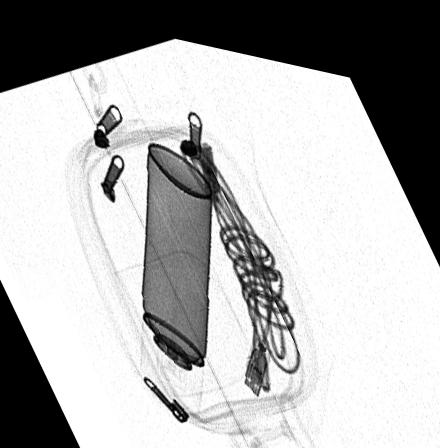Sprayer: (140, 135, 212, 409)
